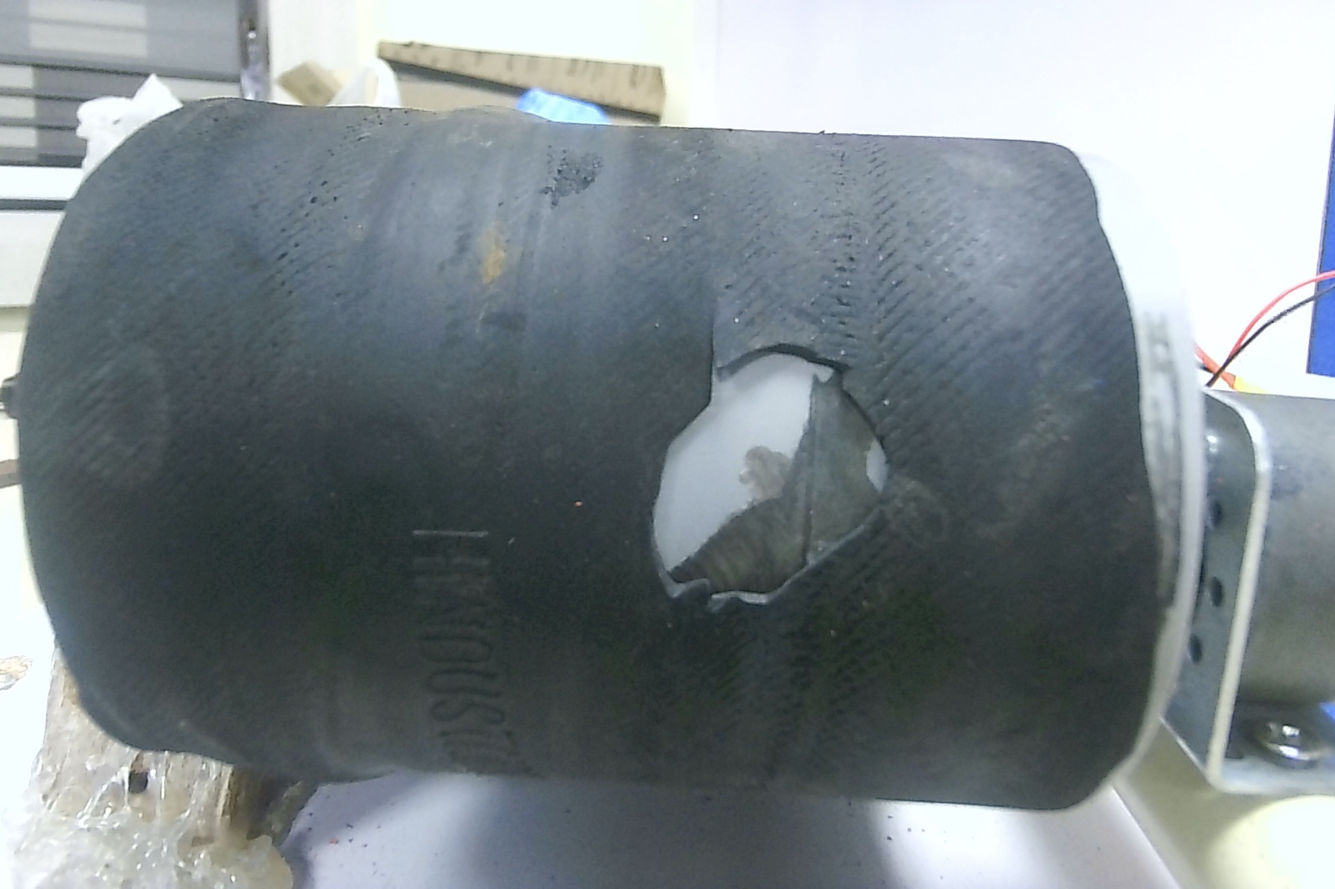hole: (615, 325, 830, 601)
